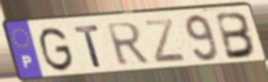9: (182, 12, 222, 64)
B: (214, 11, 259, 62)
G: (38, 25, 76, 74)
R: (104, 21, 152, 68)
T: (73, 23, 104, 69)
Z: (141, 17, 189, 65)
